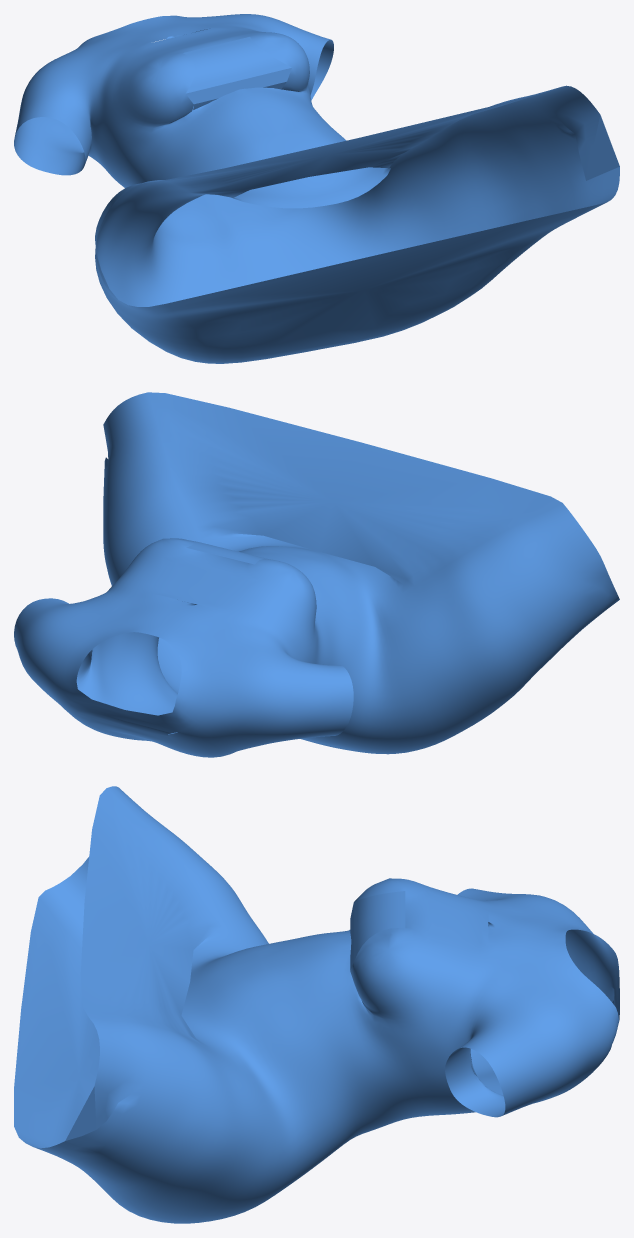
File: ropa.fbx
The picture shows the model from 3 angles, top to bottom: view 1: azimuth 30°, elevation 25°; view 2: azimuth 150°, elevation 25°; view 3: azimuth 270°, elevation 25°; orthographic projection. The views are drawn at different scales.
Parts seen in each view (by area): view 1: Ropa.2; view 2: Ropa.2; view 3: Ropa.2.
Part boxes in pixels (left/top/right/bottom): Ropa.2: left=14, top=14, right=619, bottom=363; Ropa.2: left=14, top=392, right=619, bottom=757; Ropa.2: left=14, top=786, right=619, bottom=1223.
Bounding box in the file's own units: 0.7559 × 0.3509 × 0.6821.
